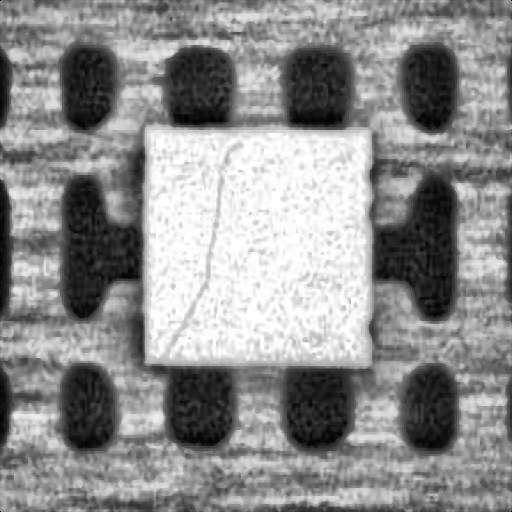DIE_CRACK: (158, 138, 232, 355)
